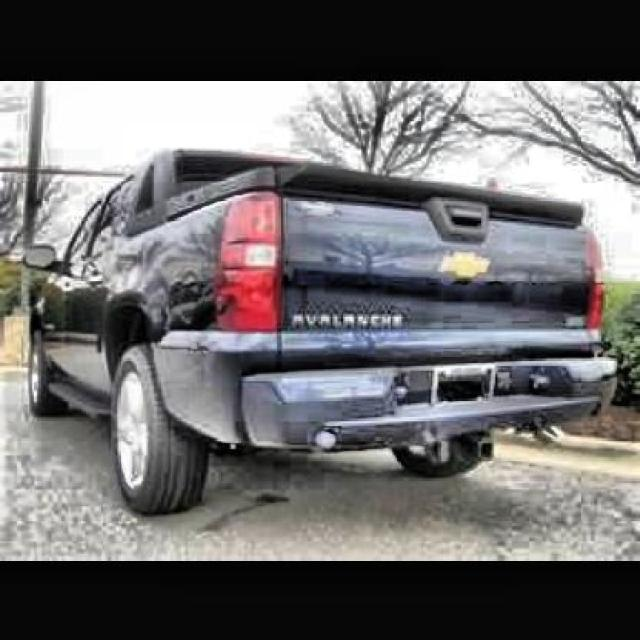black: (5, 140, 587, 495)
